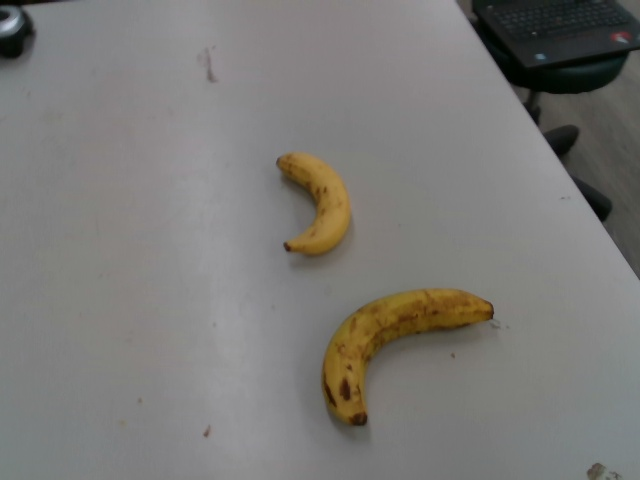banana: (319, 286, 494, 426), (272, 149, 352, 258)
